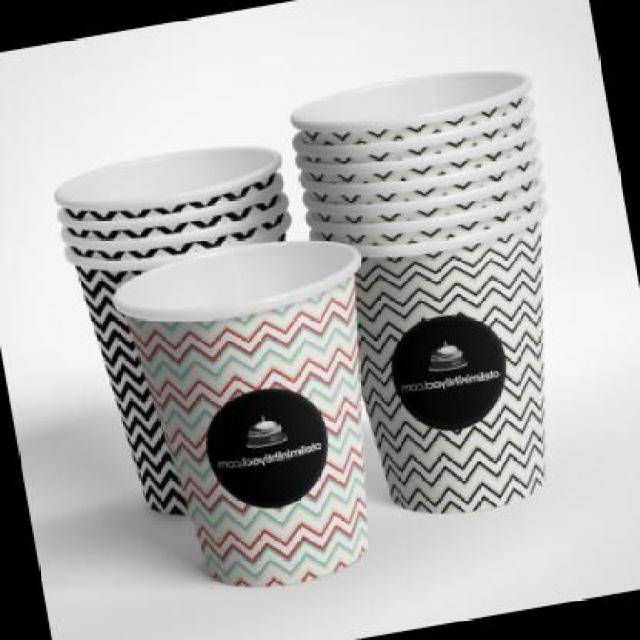non-biodegradable: (66, 214, 426, 628), (291, 69, 557, 509), (54, 150, 294, 512)
